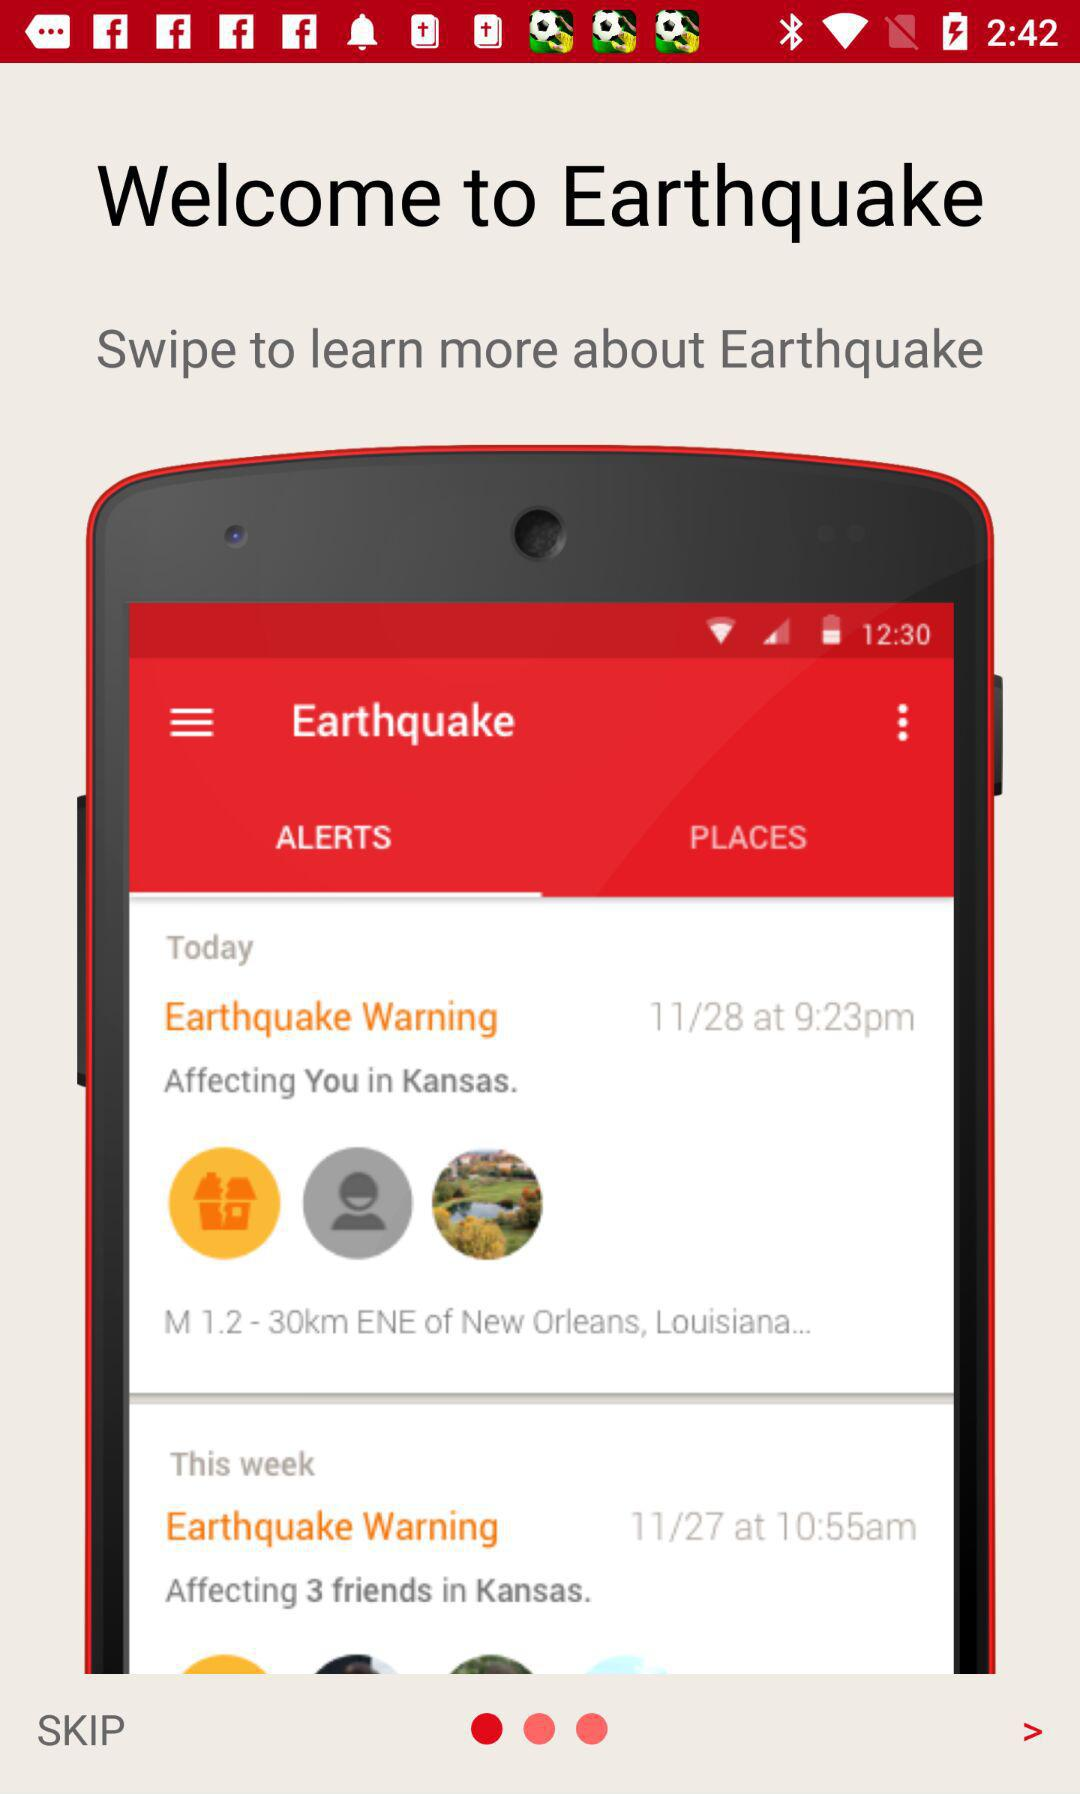Icon: (1022, 1721, 1045, 1743)
Image: (72, 442, 1006, 1674)
PageIndicator: (469, 1711, 610, 1747)
Text: (96, 161, 984, 245), (97, 327, 984, 382), (37, 1711, 126, 1748)
UpperTaskBar: (1, 1, 1080, 64)
